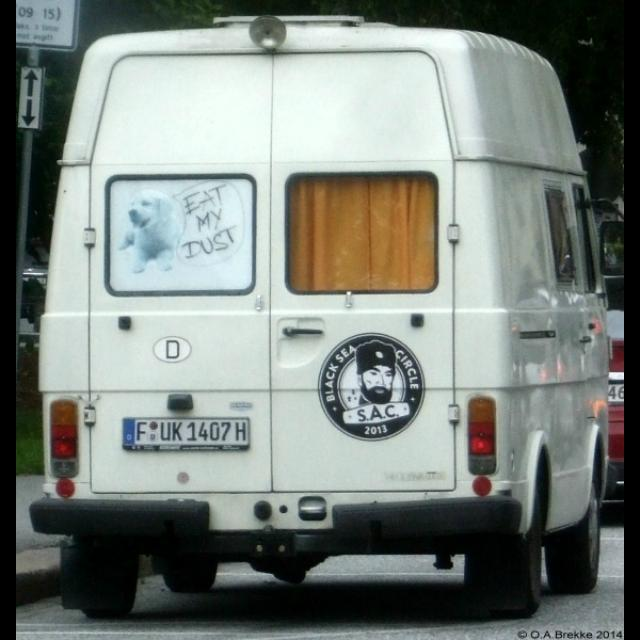d_license_plate: (122, 416, 250, 444)
